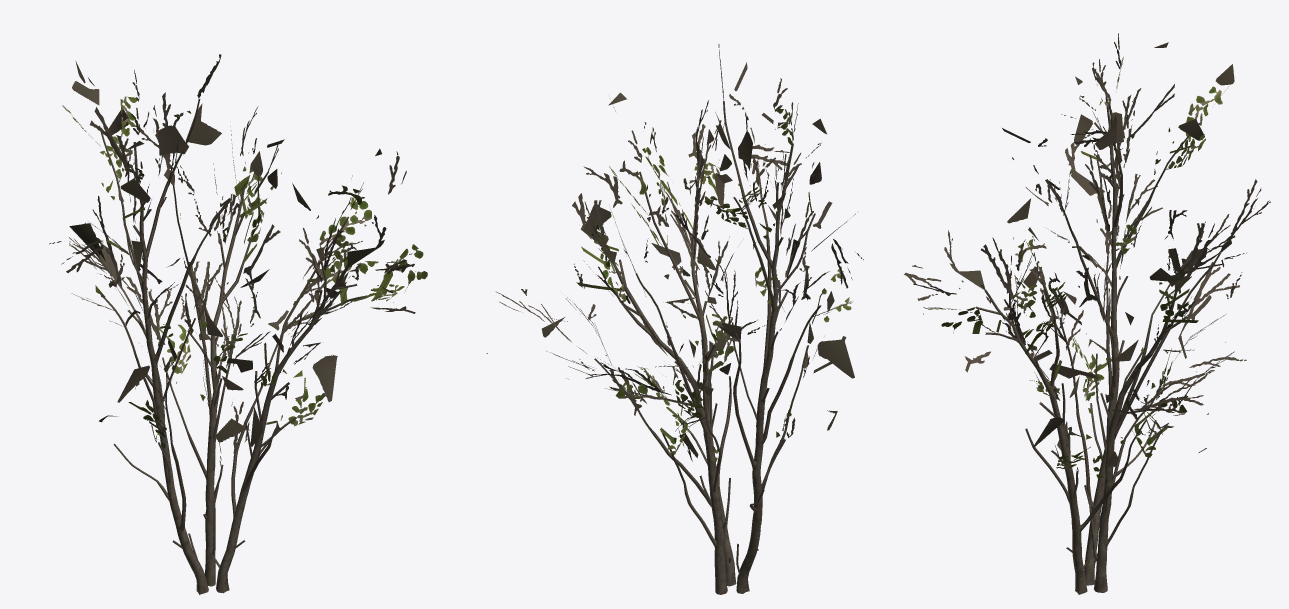
The model's file is SM_BlackAlder_Forest_09_PP_LOD3.gltf.
3 renders of one model, left to right at view 1: azimuth 30°, elevation 25°; view 2: azimuth 150°, elevation 25°; view 3: azimuth 270°, elevation 25°, orthographic. The views are drawn at different scales.
Parts seen in each view (by area): view 1: SM_BlackAlder_Forest_09_PP; view 2: SM_BlackAlder_Forest_09_PP; view 3: SM_BlackAlder_Forest_09_PP.
Part boxes in pixels (left/top/right/bottom): SM_BlackAlder_Forest_09_PP: left=49, top=54, right=427, bottom=594; SM_BlackAlder_Forest_09_PP: left=486, top=44, right=863, bottom=594; SM_BlackAlder_Forest_09_PP: left=904, top=33, right=1270, bottom=594.
Bounding box in the file's own units: 3.94 × 6.01 × 3.55.
Materials: 2 (2 with a texture image).
